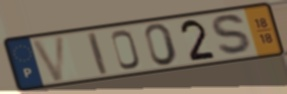0: (143, 22, 179, 68), (110, 29, 142, 72)
2: (179, 18, 218, 63)
I: (85, 30, 110, 77)
S: (210, 13, 257, 57)
V: (29, 34, 68, 84)
